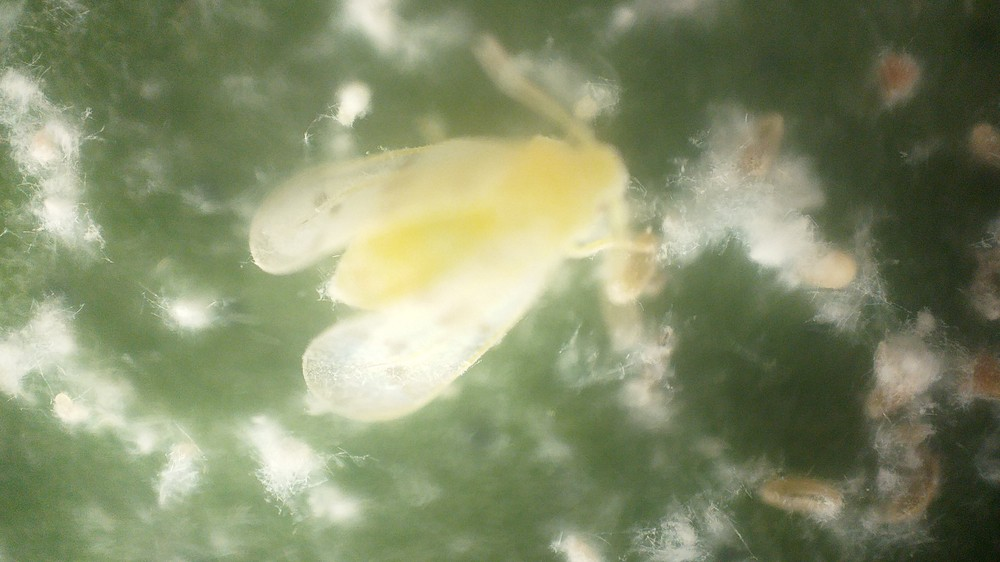Mosca Blanca: (234, 35, 674, 438)
